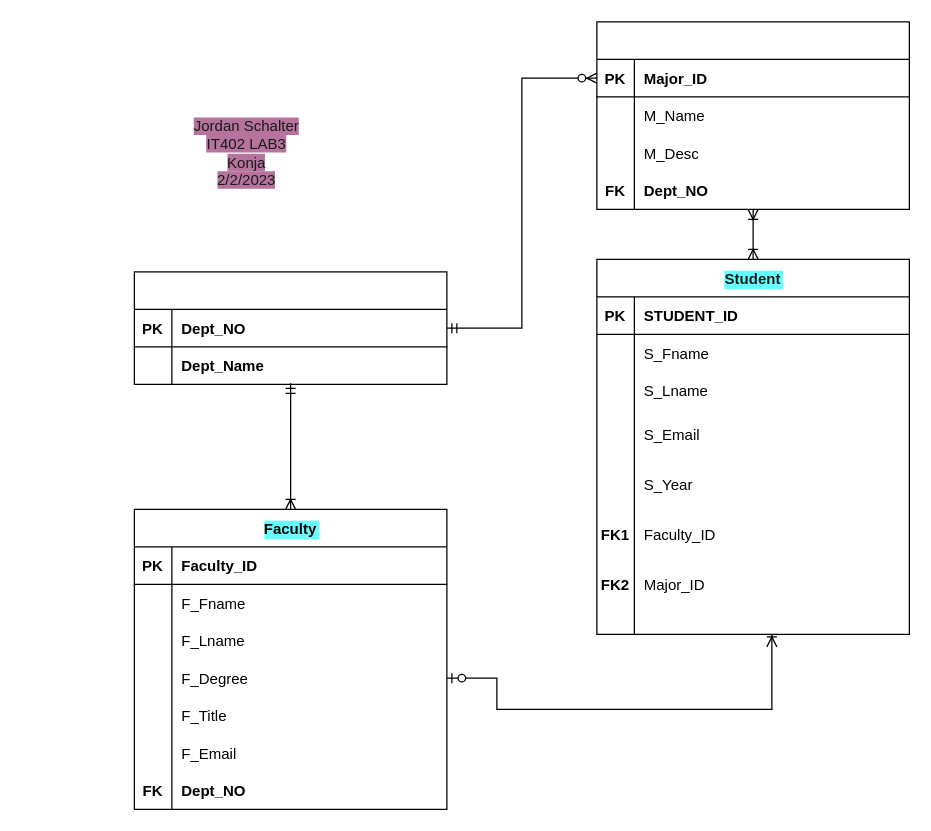
This 931x831 diagram has some shape labels left out. The box of each missing label's shape, as (x1, y1, x2, y2) in pixels:
Departments: (133, 271, 447, 384)
Majors: (596, 21, 909, 209)
